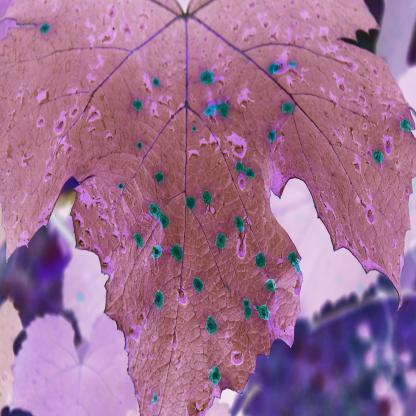grape leaf black rot: (6, 3, 415, 404)
